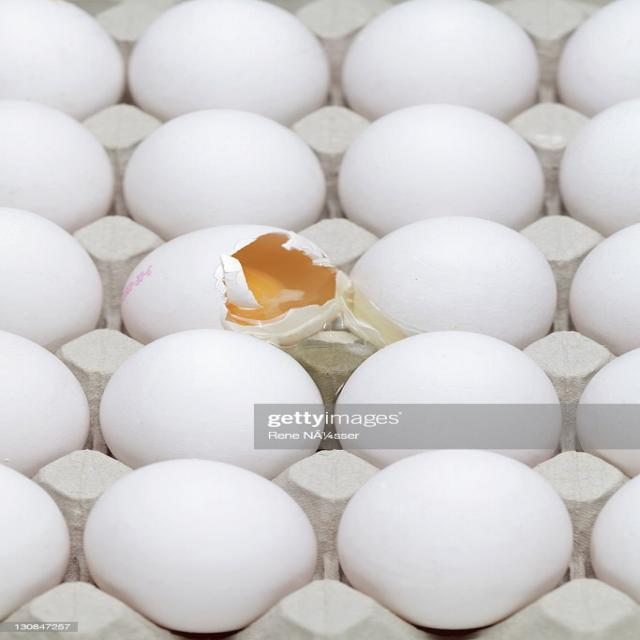biodegradable: (0, 18, 114, 626), (363, 469, 640, 640), (98, 461, 323, 640), (126, 232, 360, 360), (379, 242, 597, 343), (151, 13, 341, 128), (360, 102, 526, 232), (151, 124, 332, 232), (373, 9, 535, 103)
